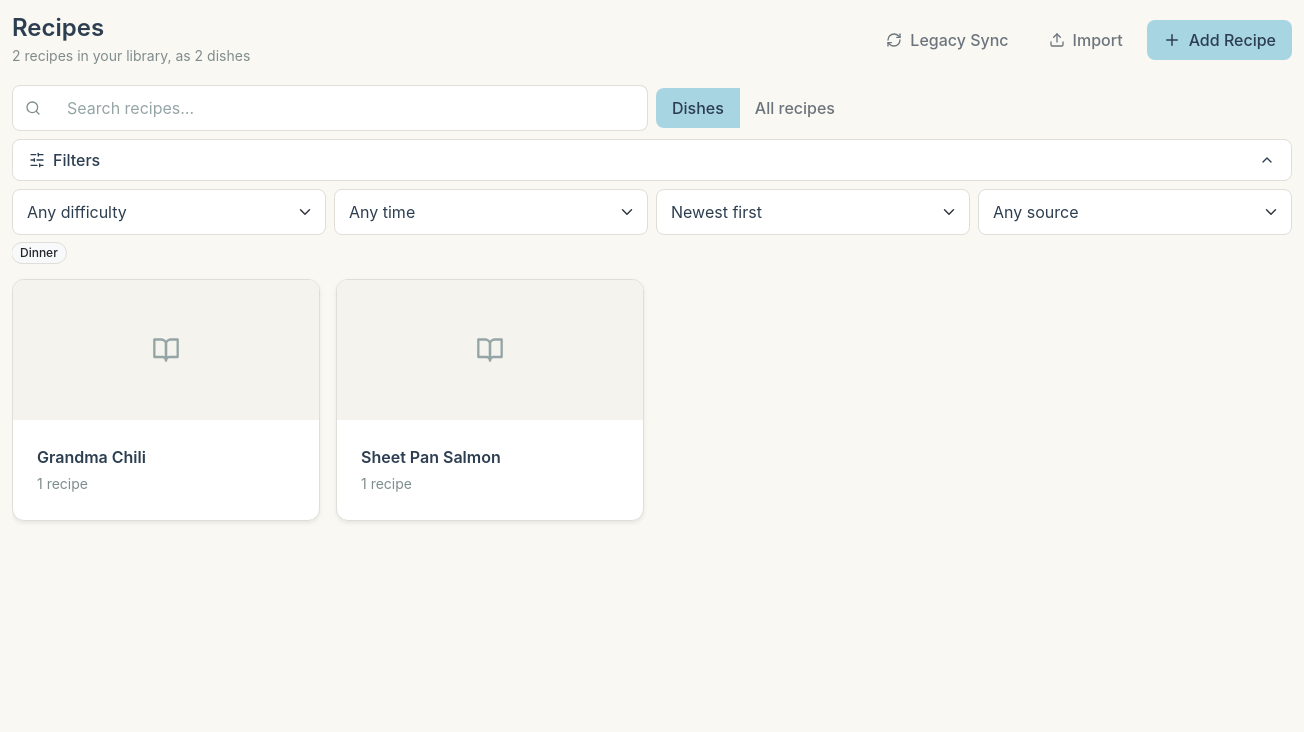
Scenario: Recipes page — failures › shows a load failure rather than an empty library
Click the button "All recipes". click: (795, 108)
box: [739, 88, 851, 128]
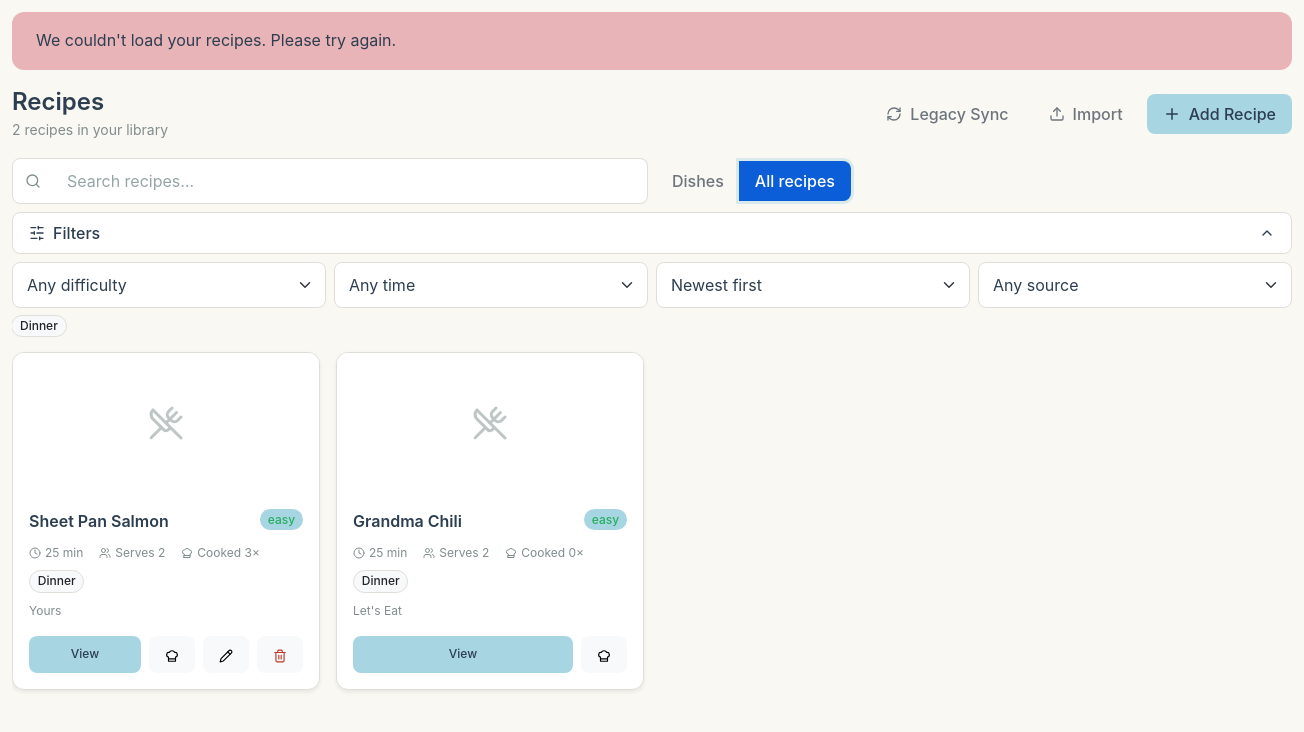
Expected: the text "We couldn't load your recipes. Please try again." is shown, [12, 12, 1292, 70]
